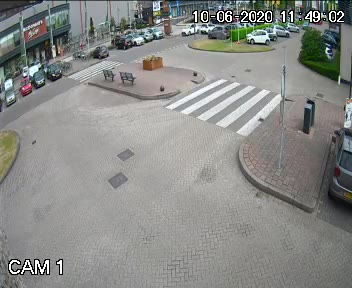car: (178, 21, 198, 38), (198, 22, 223, 34)
